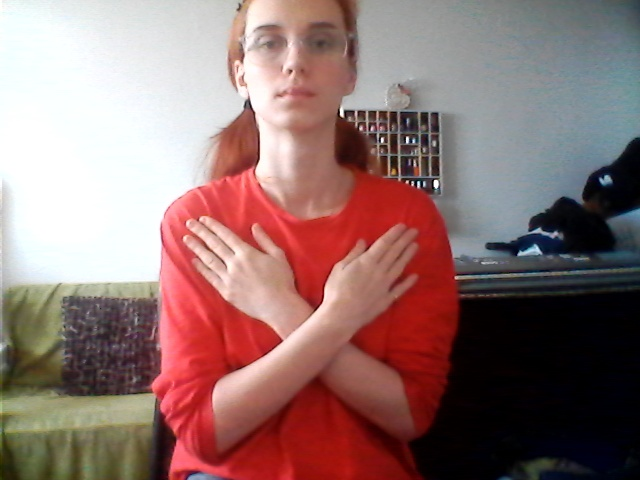z: (171, 206, 434, 455)
